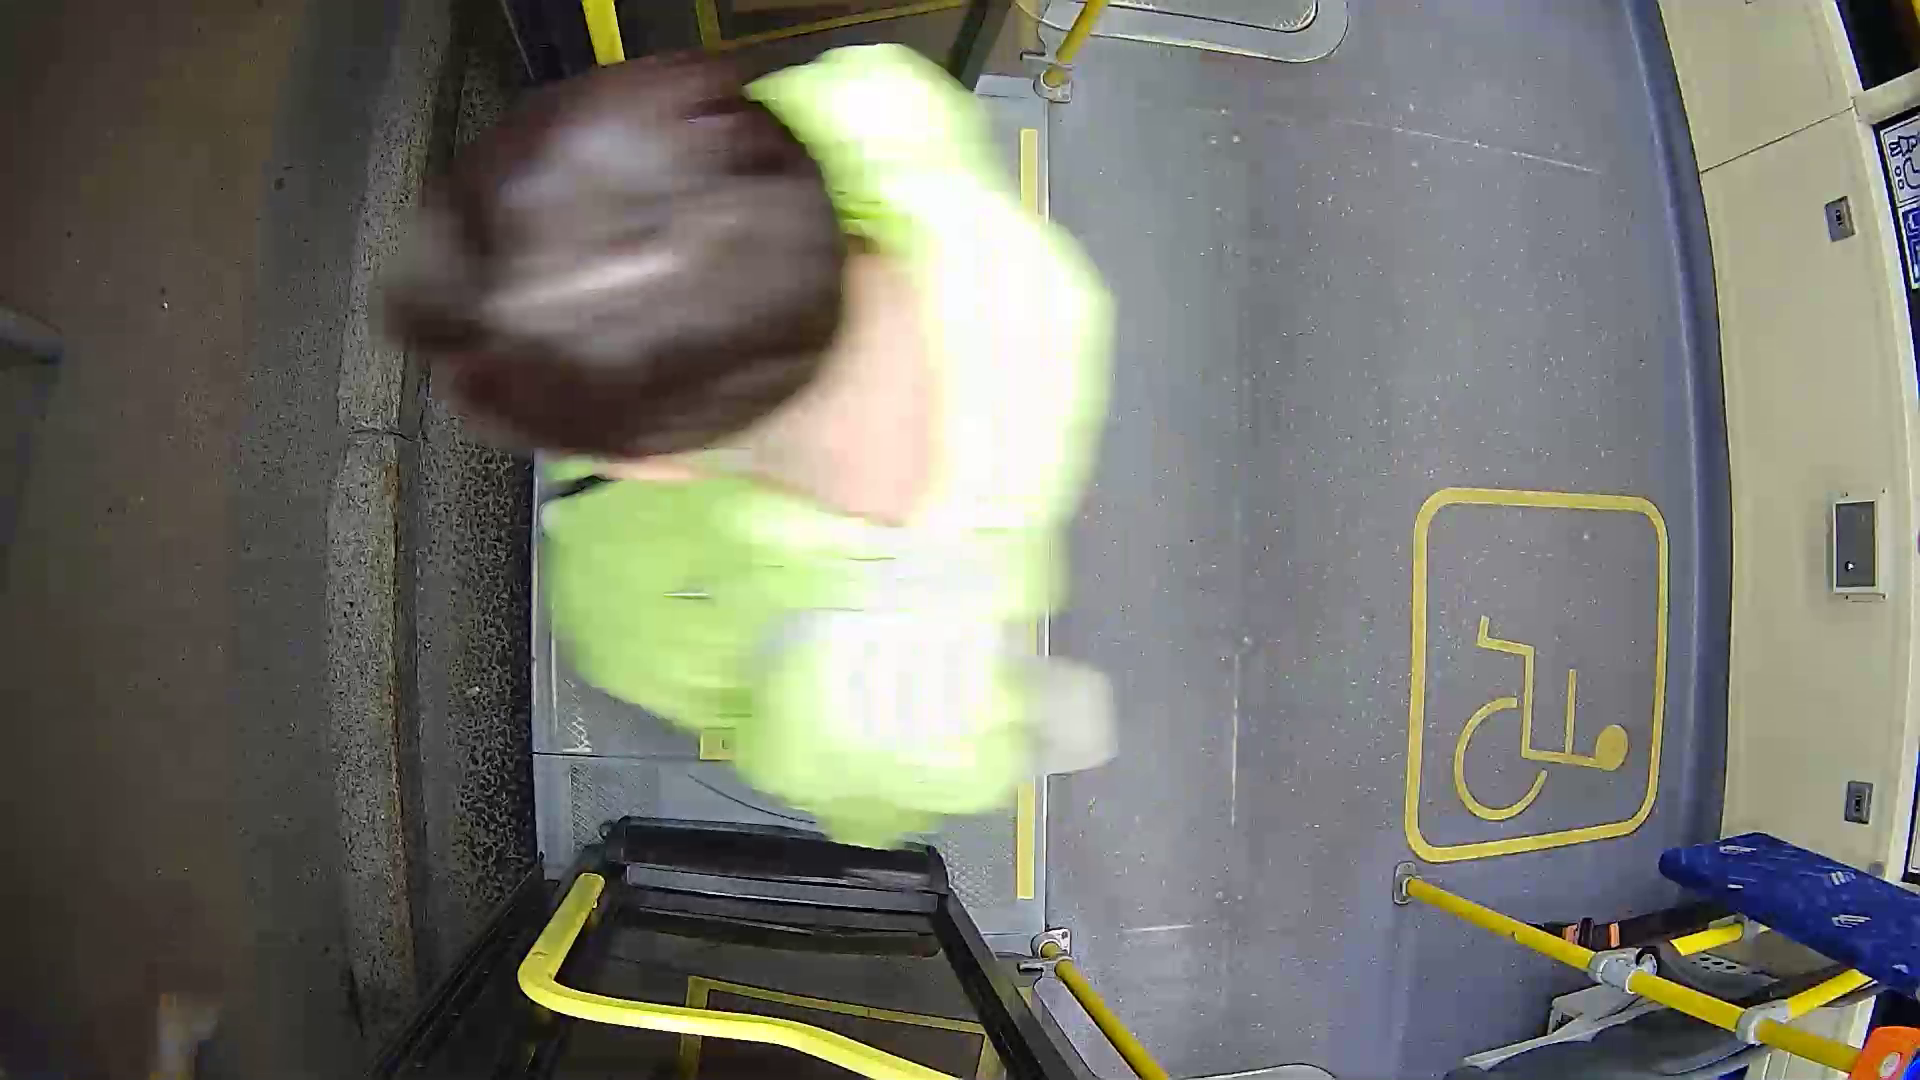person: (366, 59, 1179, 846)
